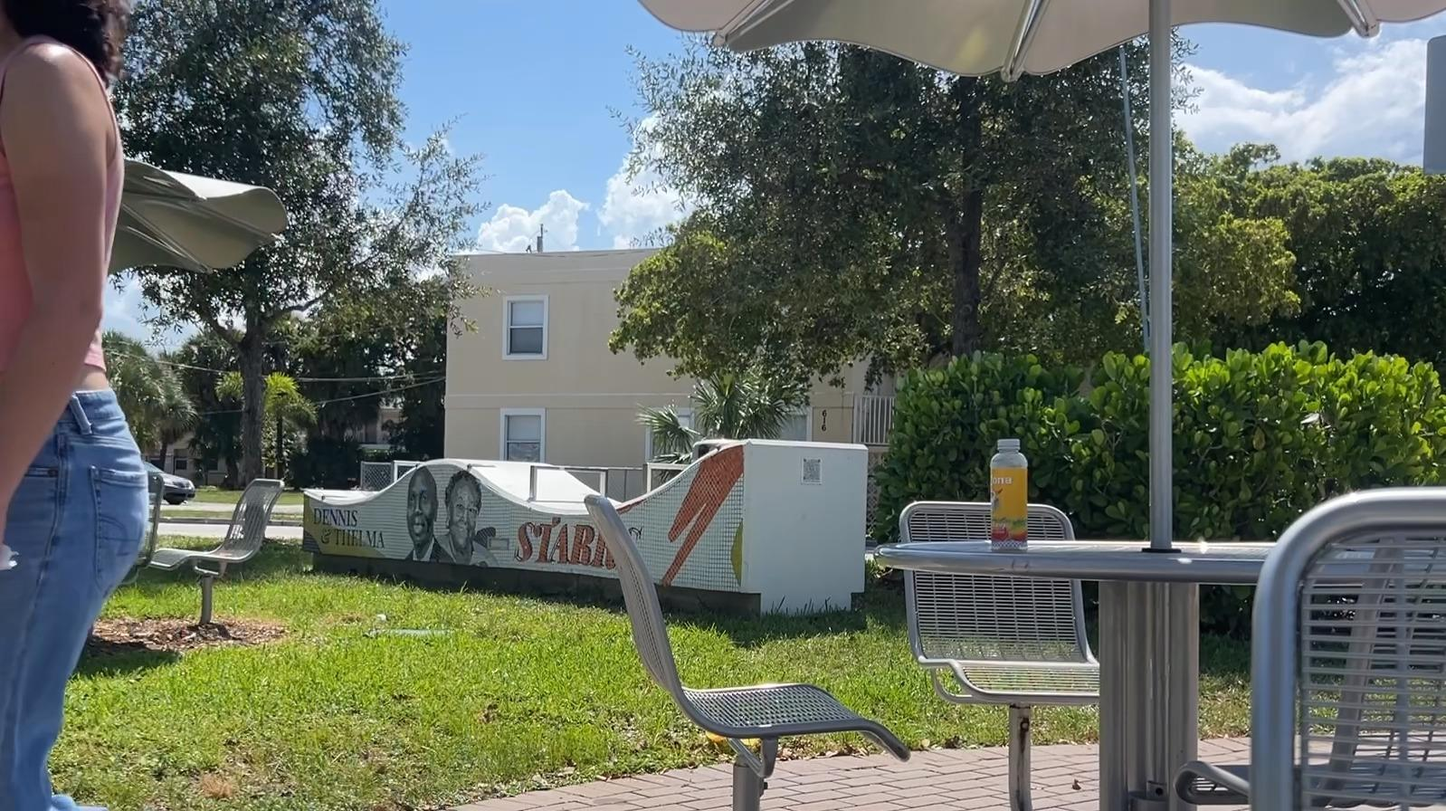Trash: (972, 421, 1045, 566)
